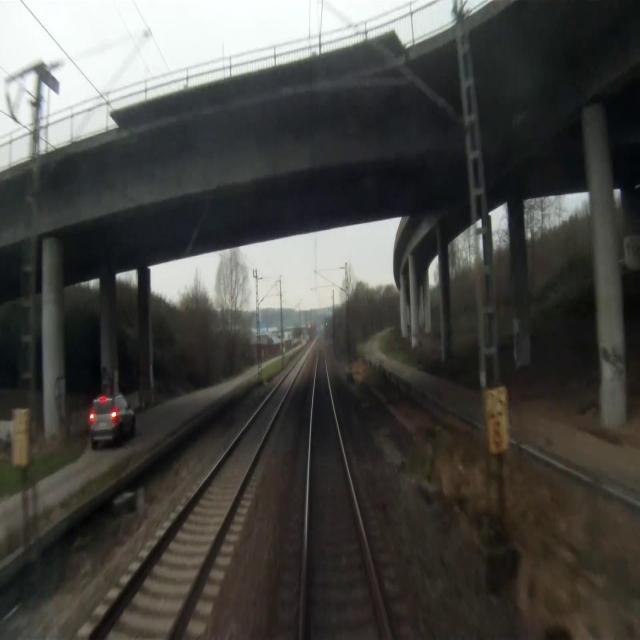rail-track: (92, 353, 306, 639), (304, 351, 387, 639)
